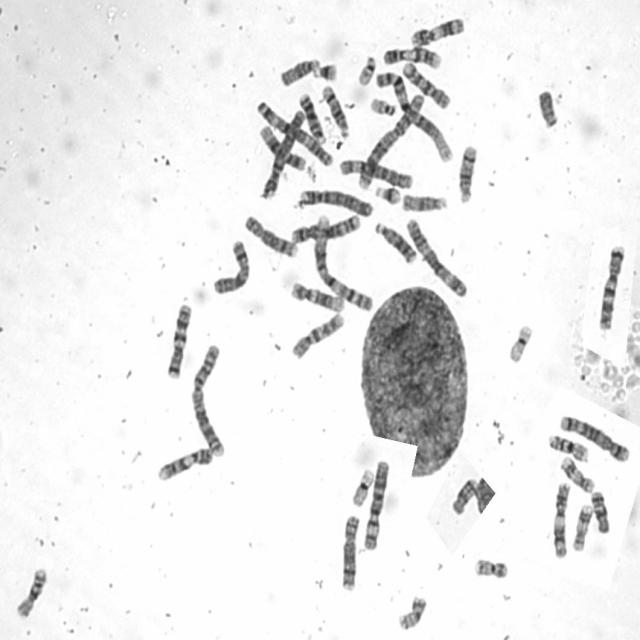A1: (373, 68, 455, 164), (311, 210, 375, 312)
A2: (357, 90, 428, 190), (188, 339, 228, 459)
A3: (253, 97, 334, 168), (402, 214, 469, 299)
B4: (258, 106, 308, 201), (295, 184, 374, 218)
B5: (557, 412, 630, 463), (289, 211, 362, 245)
C10: (287, 310, 346, 361), (400, 59, 451, 110)
C11: (407, 14, 465, 48), (550, 479, 572, 559)
C12: (257, 122, 307, 172), (287, 278, 345, 313)
C6: (361, 457, 391, 552), (336, 156, 414, 190)
C7: (596, 241, 627, 331), (164, 299, 193, 380)
C8: (242, 212, 300, 260), (338, 511, 361, 594)
C9: (154, 444, 214, 484), (380, 43, 443, 70)
D13: (372, 219, 418, 265), (297, 90, 326, 144)
D14: (319, 81, 351, 140), (455, 142, 478, 204)
D15: (277, 55, 321, 88), (400, 190, 449, 213)
E16: (13, 564, 49, 619), (546, 431, 590, 463)
E17: (558, 453, 596, 494), (569, 502, 595, 552)
E18: (450, 477, 480, 518), (589, 487, 611, 534)
F19: (348, 465, 376, 507), (506, 322, 534, 364)
F20: (395, 596, 430, 632), (472, 555, 509, 580)
G21: (373, 182, 402, 206), (311, 60, 339, 82)
G22: (367, 94, 398, 118), (356, 53, 376, 87)
X: (210, 236, 252, 296)
Y: (536, 85, 560, 128)
